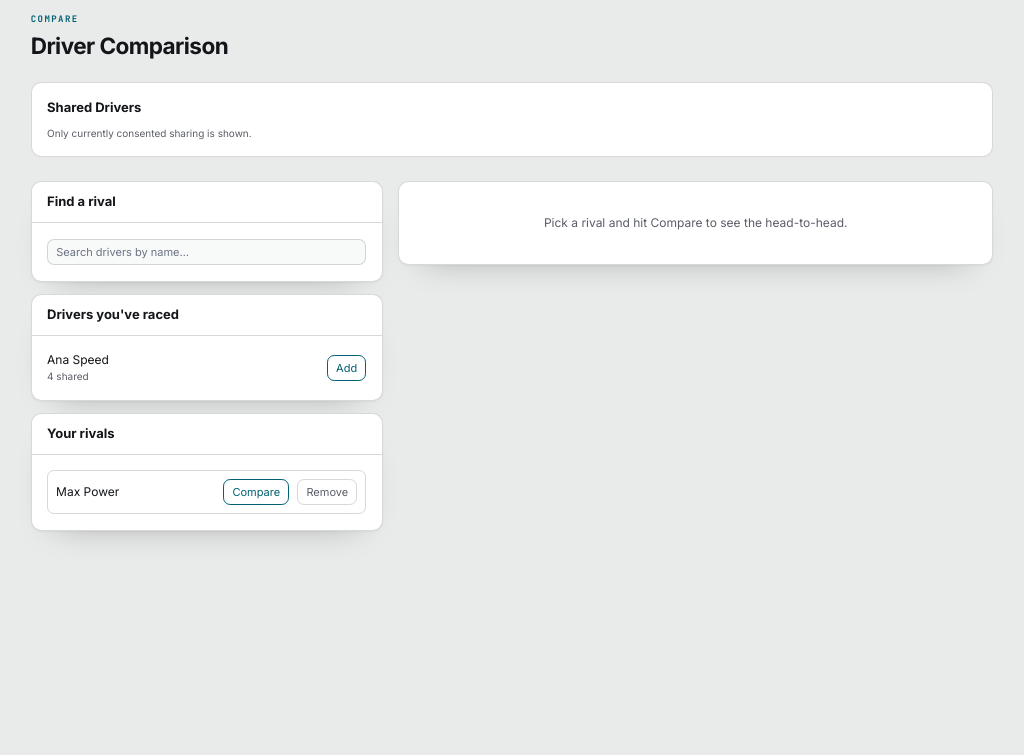
Test: ComparePage › compares against a rival and shows the head-to-head
Click the button with aria-label "compare against max power". click: {"x": 256, "y": 492}
box: [223,479,289,505]
(page scrolled)
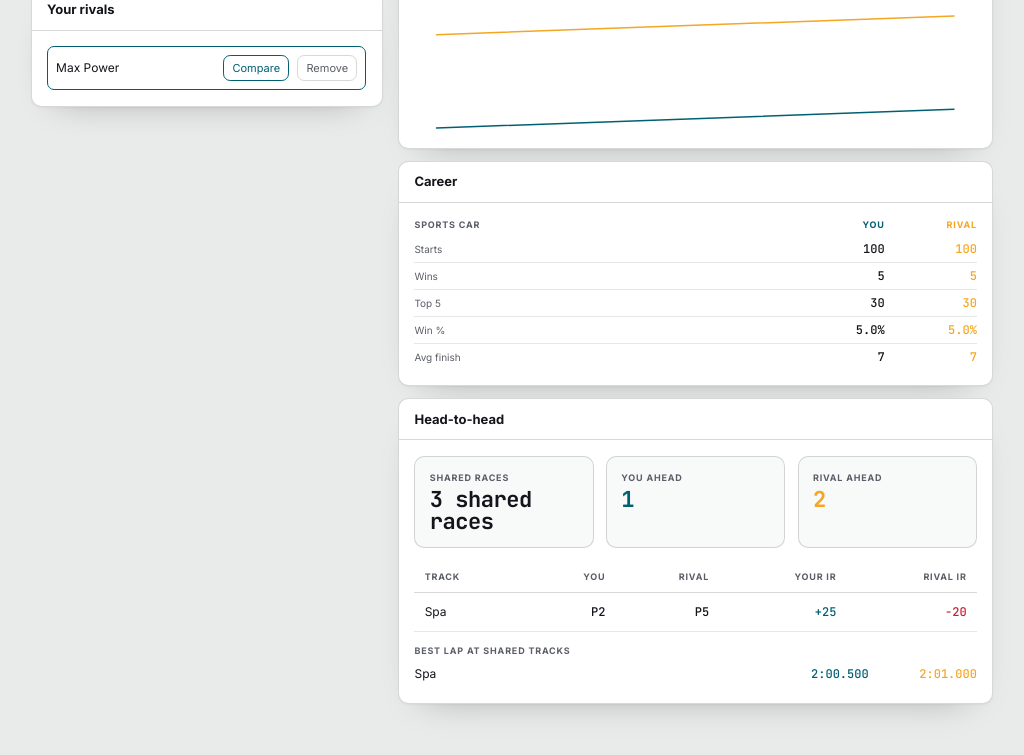
Result: the text "3 shared races" is shown at [430,484,532,536]
Result: the text "Spa" is shown at [414,592,529,631]
